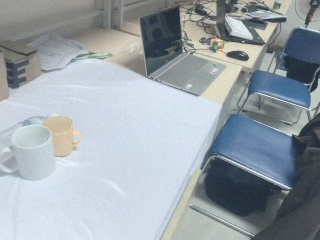box: (1, 40, 42, 89), (1, 50, 9, 105)
cup: (1, 124, 57, 181), (43, 115, 83, 157)
mouse: (226, 50, 249, 61)
